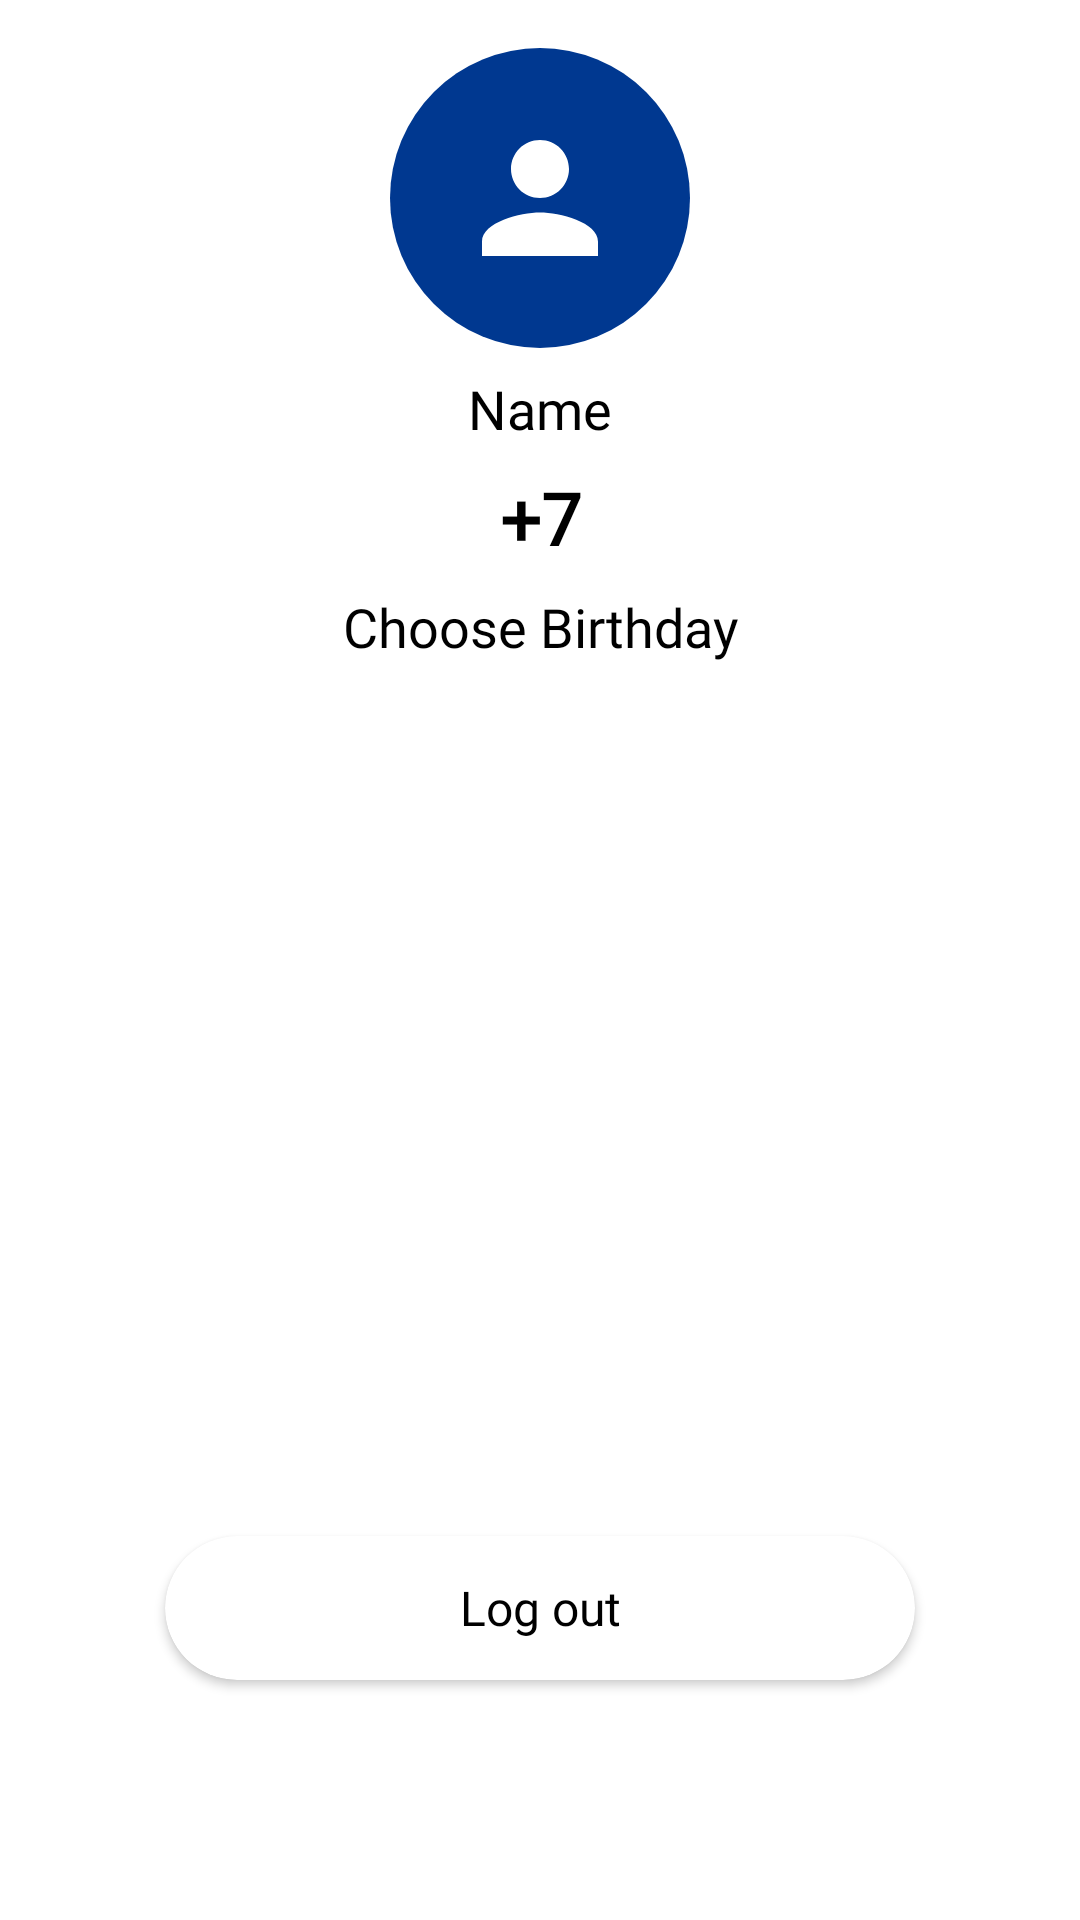

Screen size 1080 x 1920. Icon name, then its center in pixels as (x,y):
person shade: (540,198)
